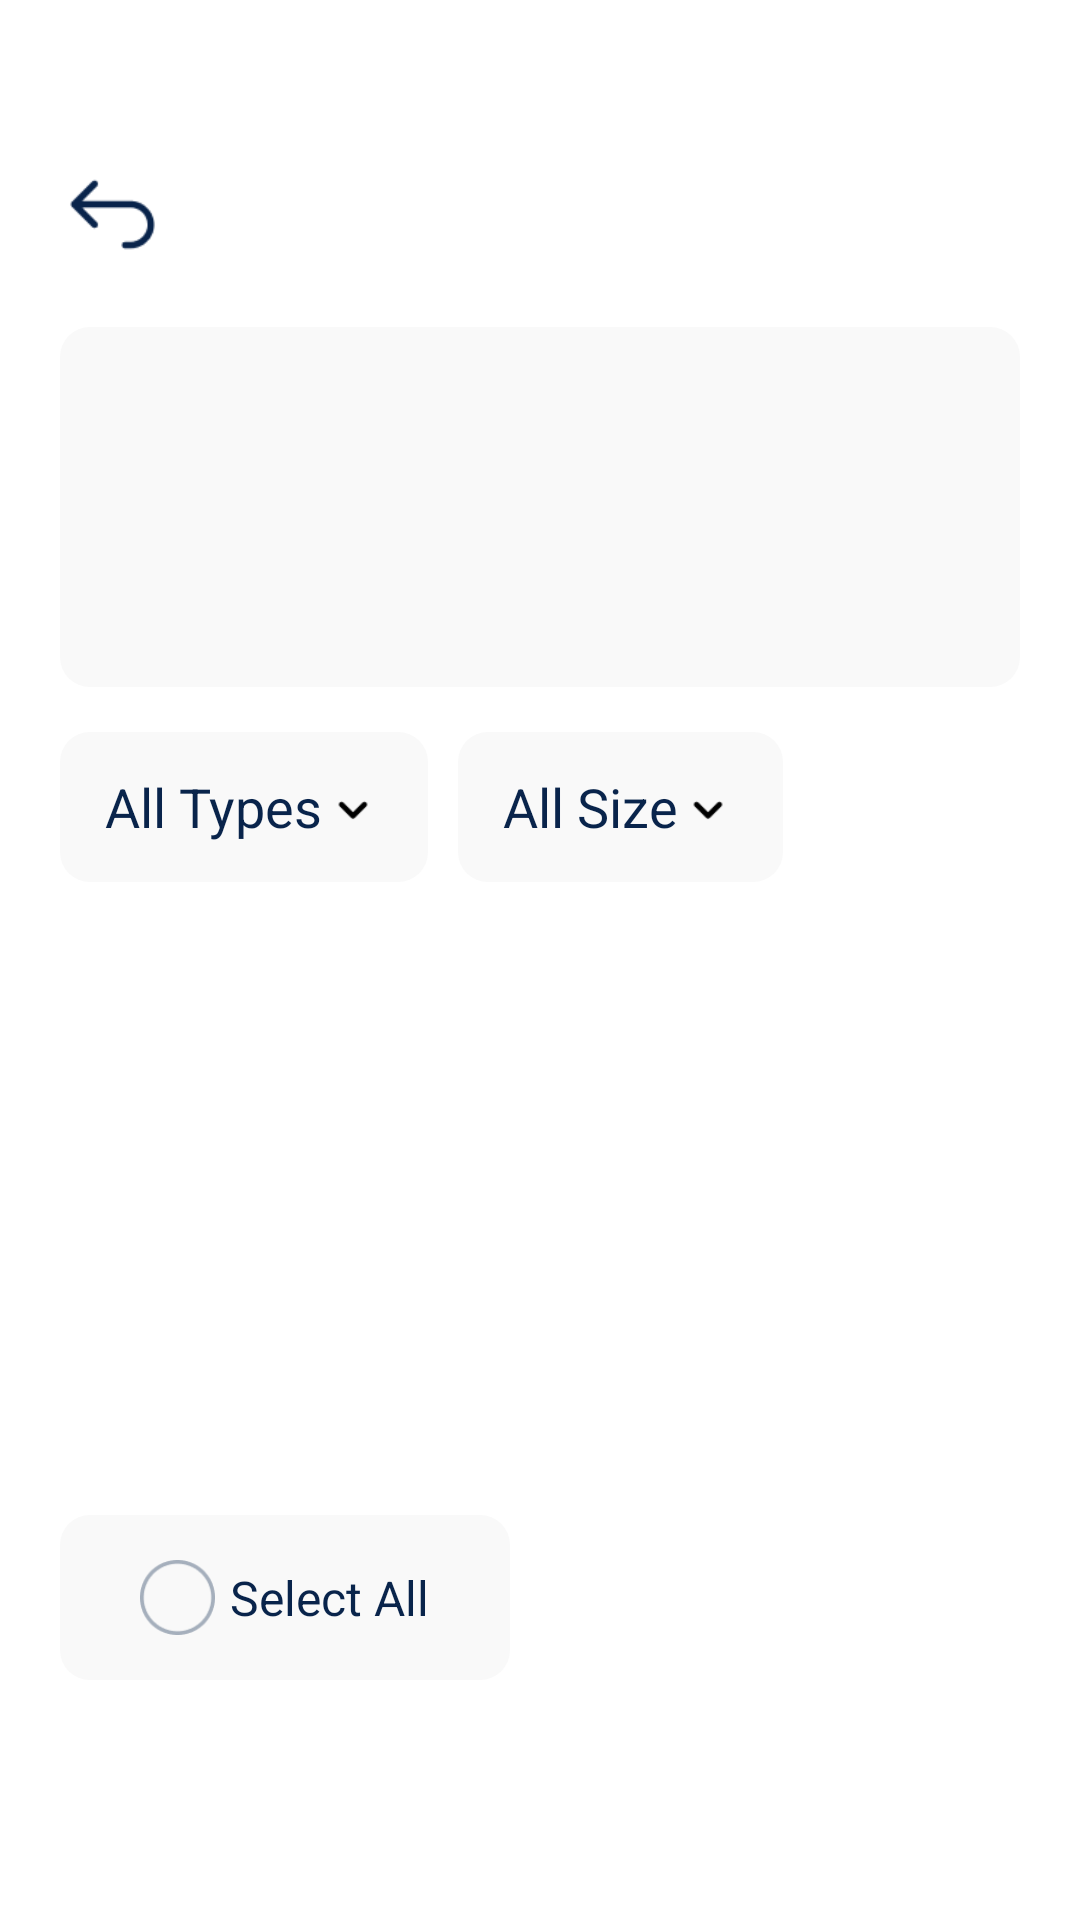

Icon bounding boxes for this 1080 x 1920 phone screenshot, format rect(x1, y1, x2, y2):
back: rect(70, 180, 155, 250)
check nor: rect(140, 1560, 215, 1635)
